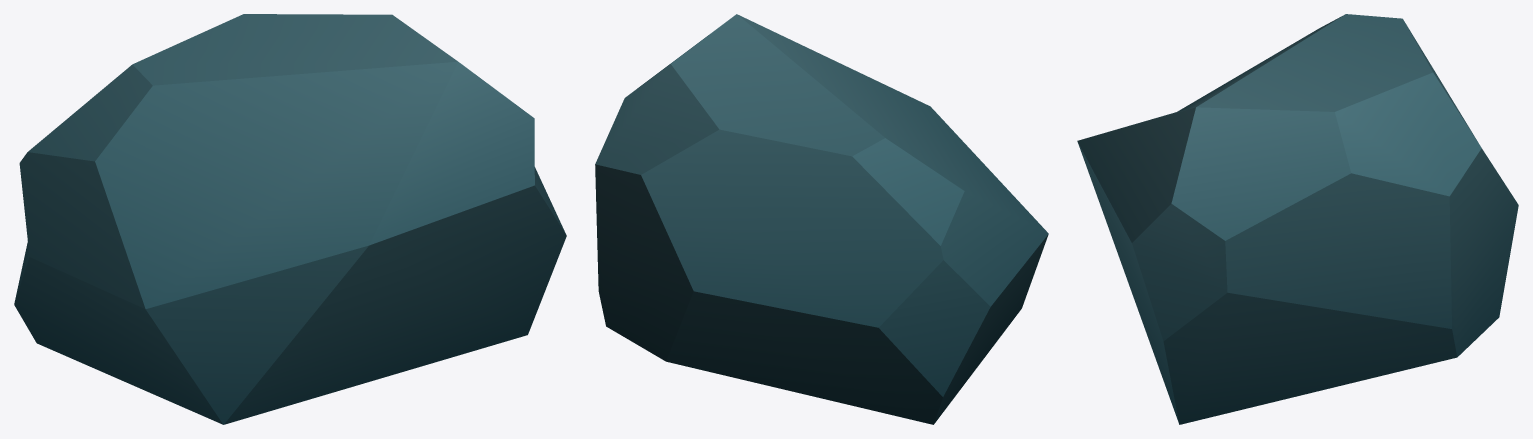
Rendered from stone_small_2.fbx.
3 renders of one model, left to right at view 1: azimuth 30°, elevation 25°; view 2: azimuth 150°, elevation 25°; view 3: azimuth 270°, elevation 25°, orthographic. The views are drawn at different scales.
Parts seen in each view (by area): view 1: stone_small_2; view 2: stone_small_2; view 3: stone_small_2.
Part boxes in pixels (x1,y1,x2,y2): stone_small_2: (14, 14, 566, 424); stone_small_2: (595, 14, 1048, 424); stone_small_2: (1077, 14, 1518, 424).
Size of the model in its own units: 0.4589 by 0.2802 by 0.3904.
